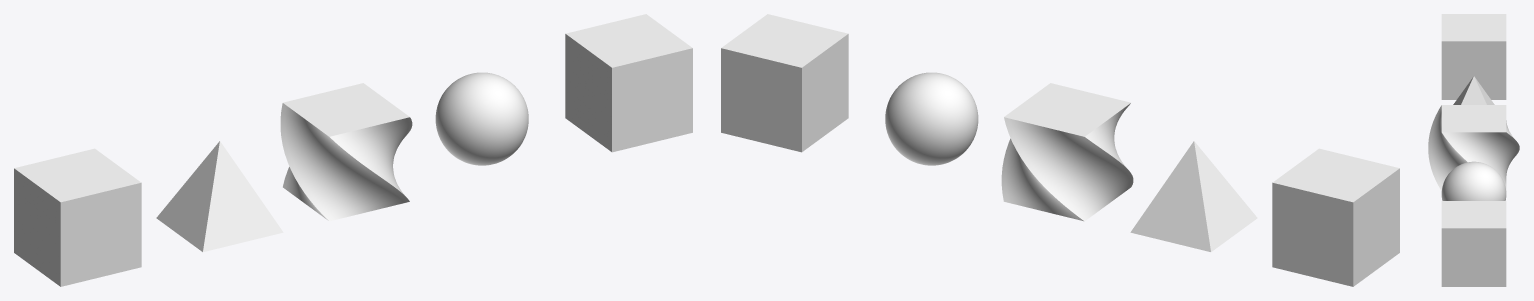
File: shapeDeformTest_progressive.fbx
The picture shows the model from 3 angles, left to right: view 1: azimuth 30°, elevation 25°; view 2: azimuth 150°, elevation 25°; view 3: azimuth 270°, elevation 25°; orthographic projection. The views are drawn at different scales.
Visible parts, largest first — view 1: Box002, Box006, Box004, Box005, Box003; view 2: Box002, Box006, Box004, Box005, Box003; view 3: Box002, Box004, Box006, Box003, Box005.
Boxes of the visible parts, x1,y1,x2,y2 form: Box002: [565, 14, 692, 152]; Box006: [14, 148, 141, 286]; Box004: [280, 83, 412, 221]; Box005: [156, 141, 283, 251]; Box003: [435, 72, 528, 165]; Box002: [721, 14, 848, 152]; Box006: [1272, 148, 1399, 286]; Box004: [1001, 83, 1133, 221]; Box005: [1130, 141, 1257, 251]; Box003: [885, 72, 978, 165]; Box002: [1441, 201, 1506, 286]; Box004: [1428, 105, 1519, 190]; Box006: [1441, 14, 1506, 99]; Box003: [1441, 161, 1506, 200]; Box005: [1453, 76, 1494, 104].
Bounding box in the file's own units: 154 × 19.69 × 27.8.
Materials: 1 (1 with a texture image).
